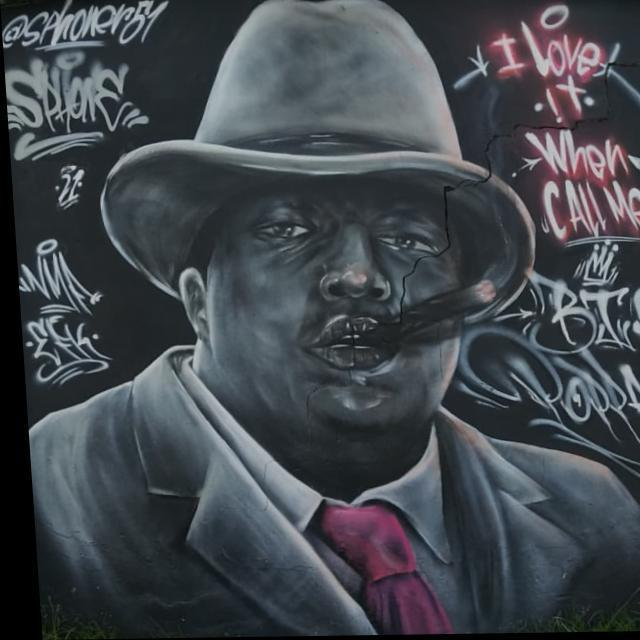nonspitting: (457, 2, 640, 244), (461, 240, 640, 480), (6, 0, 171, 205), (17, 239, 111, 387)
spitting: (30, 0, 640, 640)
